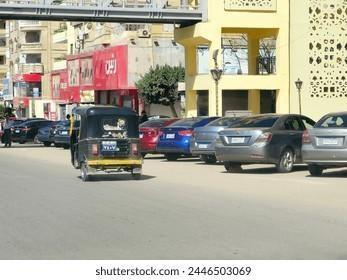keke: (72, 101, 146, 187)
